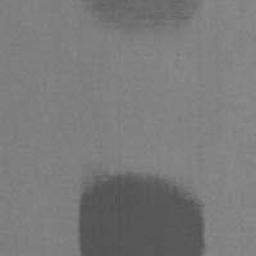Oil spot: (77, 161, 209, 256), (77, 0, 206, 44)
